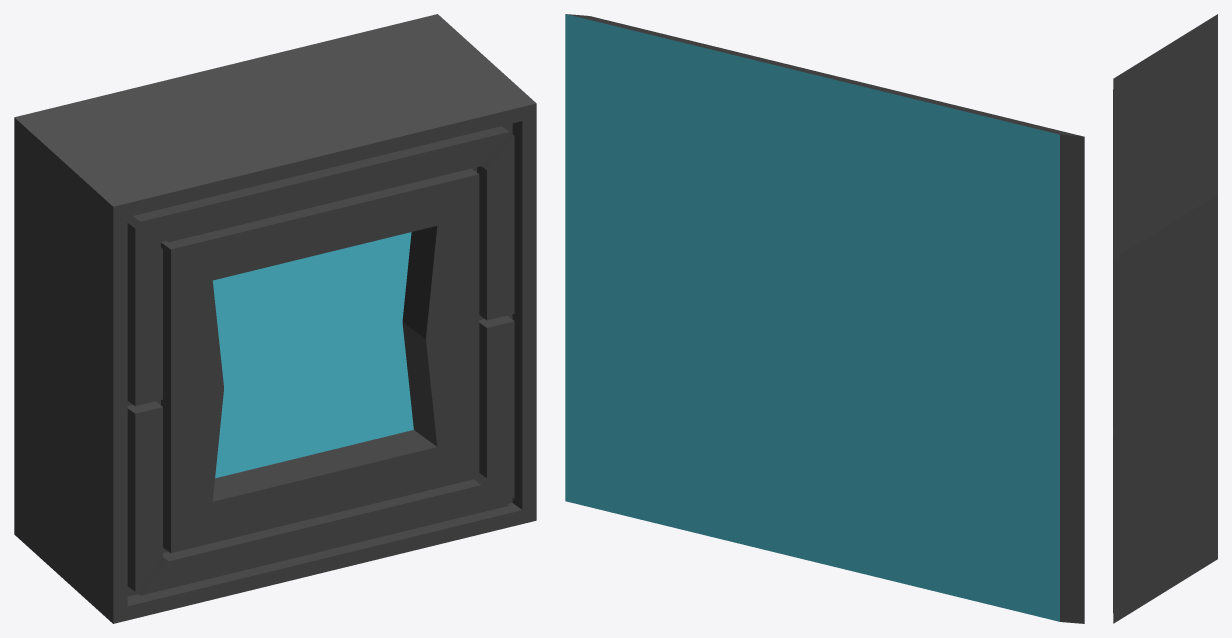
File: window2.fbx
3 views of the same model, side by side, from view 1: azimuth 30°, elevation 25°; view 2: azimuth 150°, elevation 25°; view 3: azimuth 270°, elevation 25° (orthographic). The views are drawn at different scales.
Parts seen in each view (by area): view 1: Cube.013; view 2: Cube.013; view 3: Cube.013.
Part boxes in pixels (<box>): Cube.013: <box>14,14,536,623</box>; Cube.013: <box>565,14,1084,623</box>; Cube.013: <box>1113,14,1217,623</box>.
Bounding box in the file's own units: 3774 × 3683 × 848.
